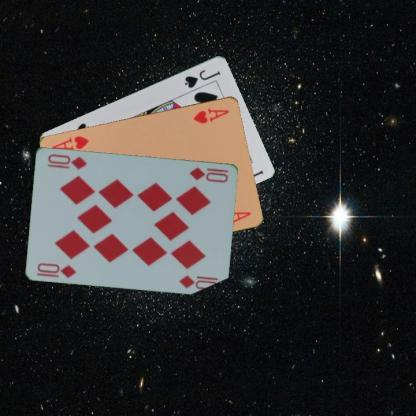10d: (187, 164, 230, 184), (35, 260, 79, 279)
Ah: (191, 105, 231, 125)
Js: (182, 66, 222, 90)
